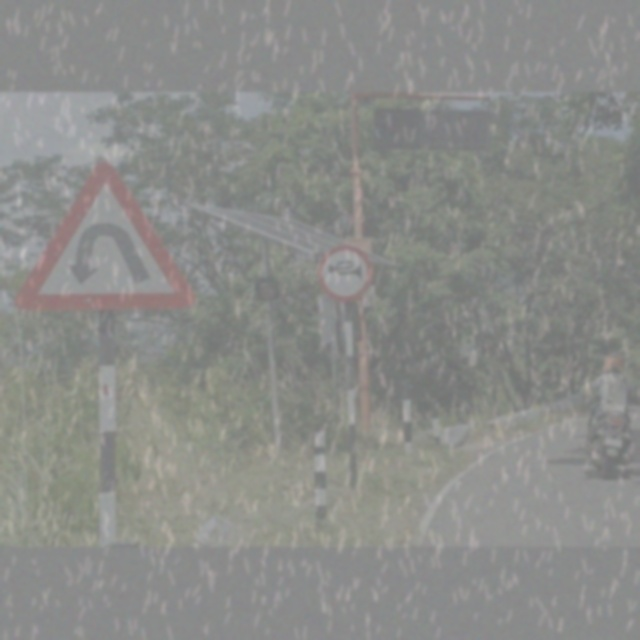Left_Hair_Pin_Bend: (15, 156, 204, 319)
